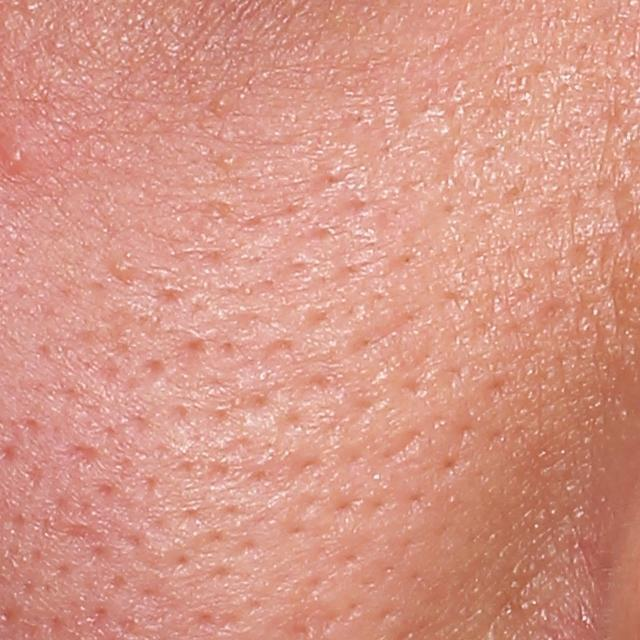atrophic_scar: (65, 441, 102, 466)
comedo: (219, 154, 237, 168)
